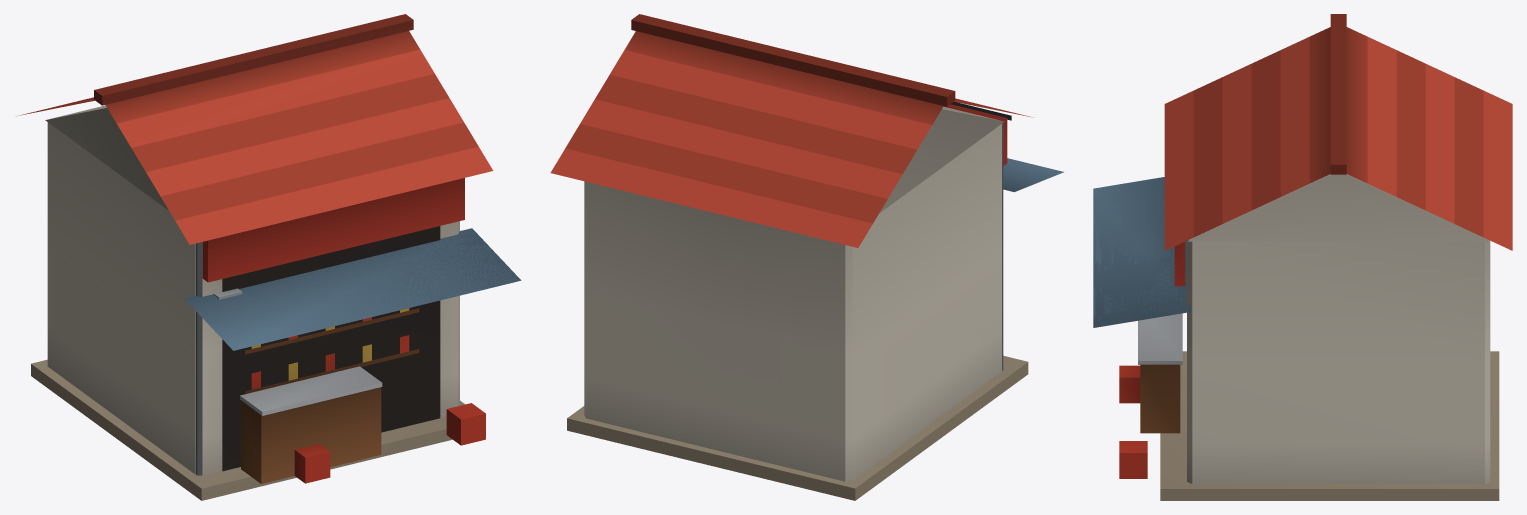
The model's file is tiem-tap-hoa-trang.glb.
3 renders of one model, left to right at view 1: azimuth 30°, elevation 25°; view 2: azimuth 150°, elevation 25°; view 3: azimuth 270°, elevation 25°, orthographic. The views are drawn at different scales.
Visible parts, largest first — view 1: tiem-tap-hoa-trang; view 2: tiem-tap-hoa-trang; view 3: tiem-tap-hoa-trang.
Boxes of the visible parts, x1=… form: tiem-tap-hoa-trang: x1=16, y1=14, x2=521, y2=500; tiem-tap-hoa-trang: x1=550, y1=14, x2=1063, y2=500; tiem-tap-hoa-trang: x1=1093, y1=14, x2=1512, y2=500.
Size of the model in its own units: 4 by 4.24 by 4.7.
